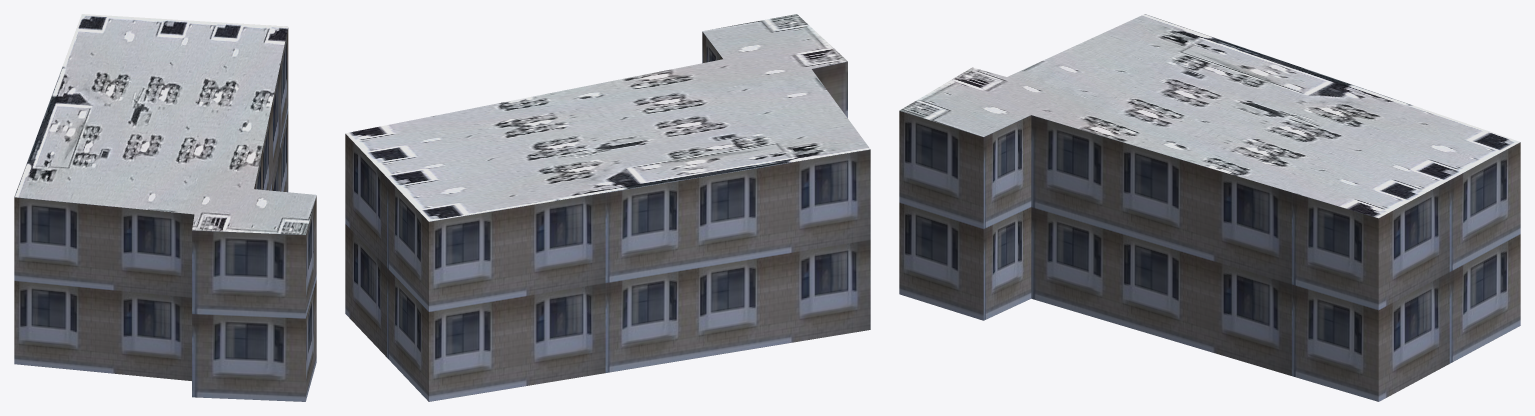
The model's file is ResTex__2015.fbx.
The picture shows the model from 3 angles, left to right: view 1: azimuth 30°, elevation 25°; view 2: azimuth 150°, elevation 25°; view 3: azimuth 270°, elevation 25°; orthographic projection. The views are drawn at different scales.
Parts seen in each view (by area): view 1: CityEngineMaterial_3_m, CityEngineMaterial_8_m; view 2: CityEngineMaterial_3_m, CityEngineMaterial_8_m; view 3: CityEngineMaterial_3_m, CityEngineMaterial_8_m.
Boxes of the visible parts, x1=… form: CityEngineMaterial_3_m: x1=14, y1=28, x2=316, y2=401; CityEngineMaterial_8_m: x1=14, y1=14, x2=316, y2=234; CityEngineMaterial_3_m: x1=345, y1=31, x2=870, y2=401; CityEngineMaterial_8_m: x1=345, y1=14, x2=870, y2=221; CityEngineMaterial_3_m: x1=899, y1=110, x2=1520, y2=401; CityEngineMaterial_8_m: x1=900, y1=14, x2=1519, y2=218.
Bounding box in the file's own units: 14.31 × 6 × 18.39.
Materials: 2 (2 with a texture image).
